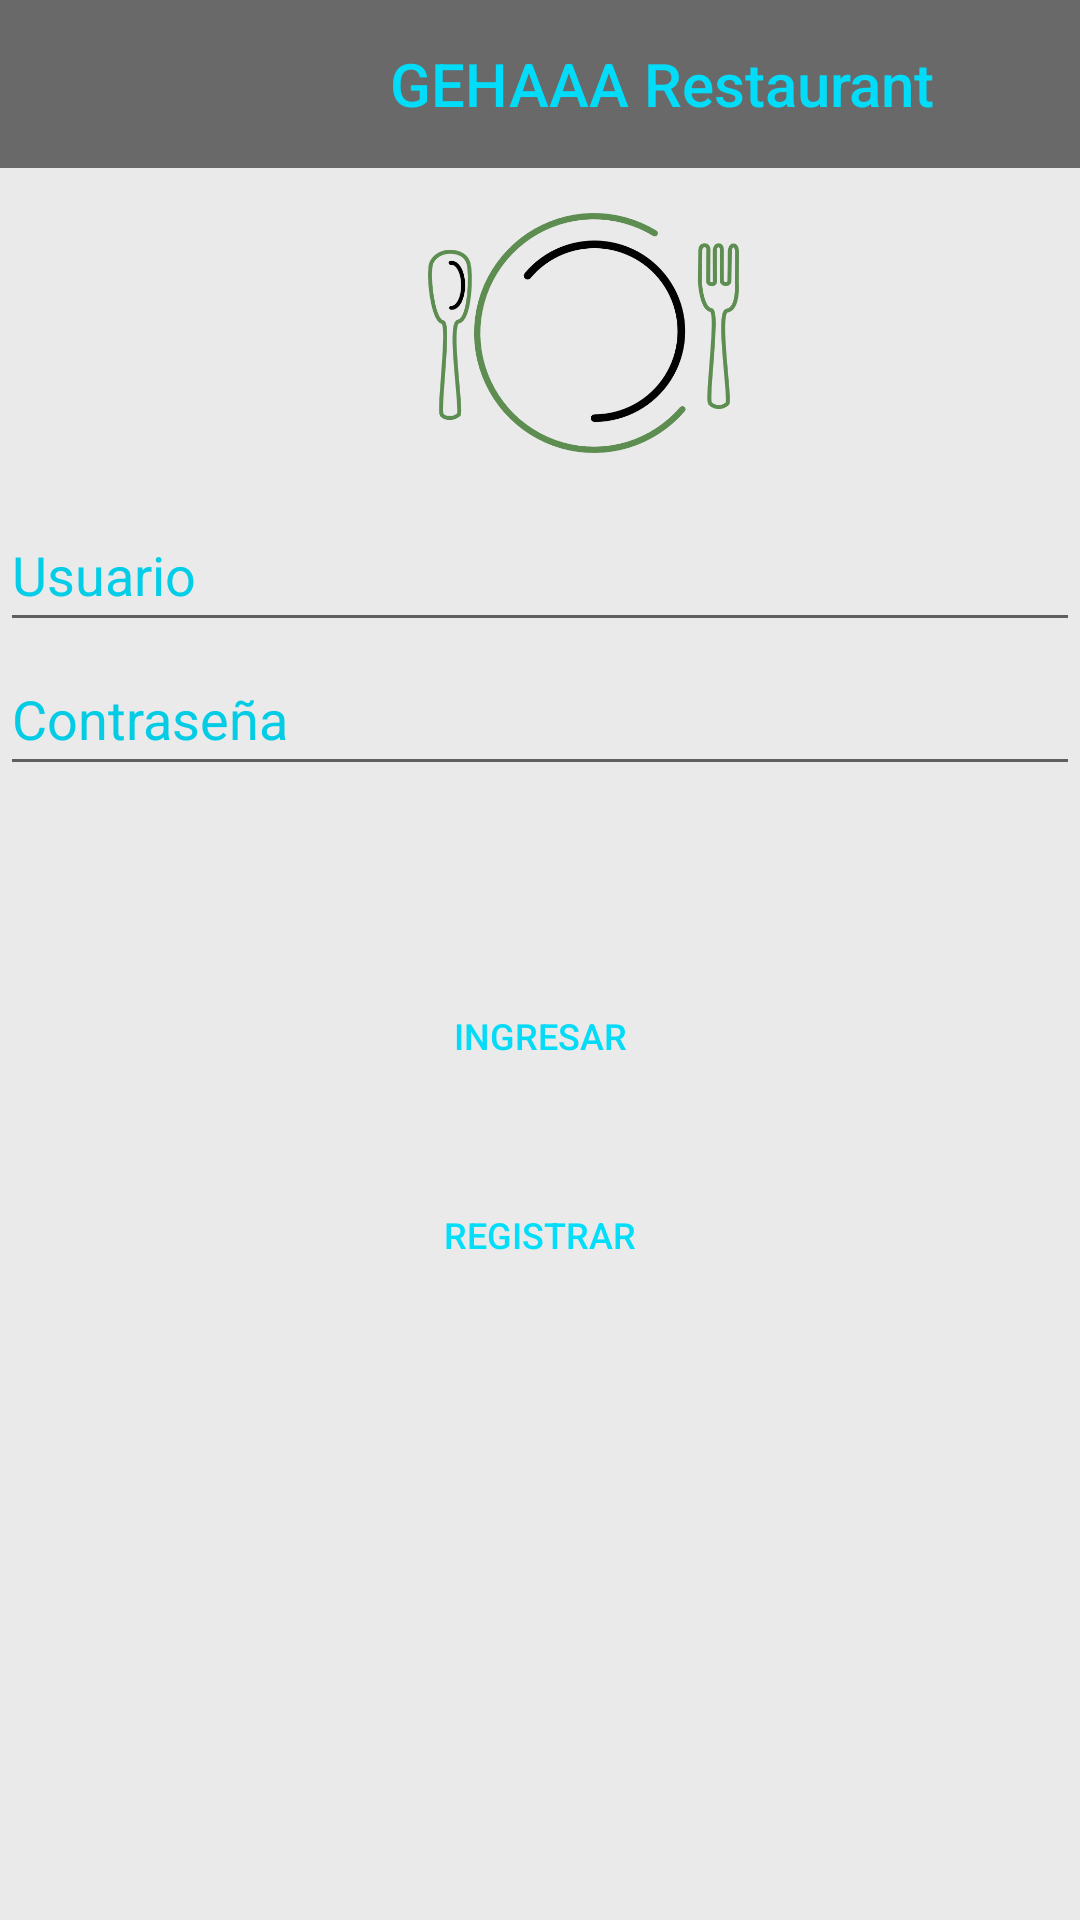

Named icons in this screenshot (1080w x 1920h) and their centers, [x,y]:
cubiertos: [583,333]
